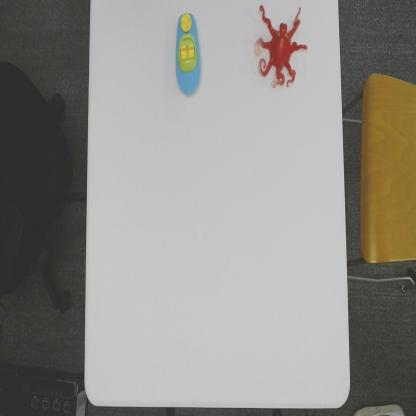Boat: (175, 9, 201, 97)
Octopus: (254, 4, 308, 90)
